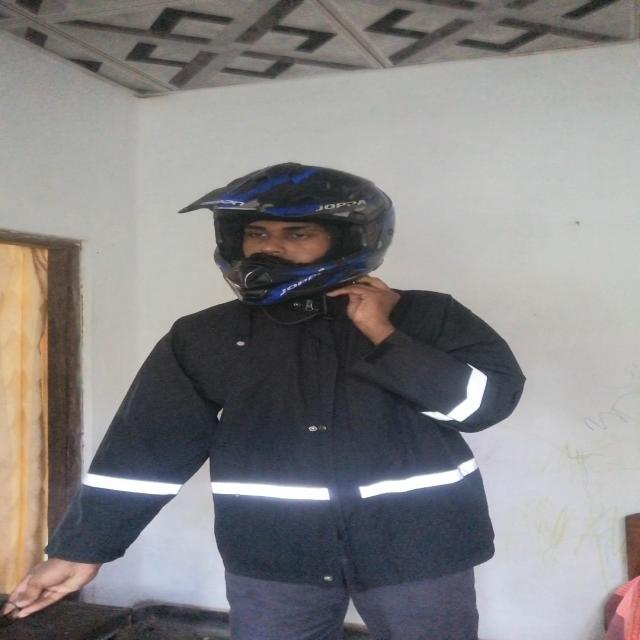Helmet_Wearer: (195, 159, 409, 309)
Jacket_Wearer: (88, 286, 530, 587)
Person: (96, 165, 542, 640)
